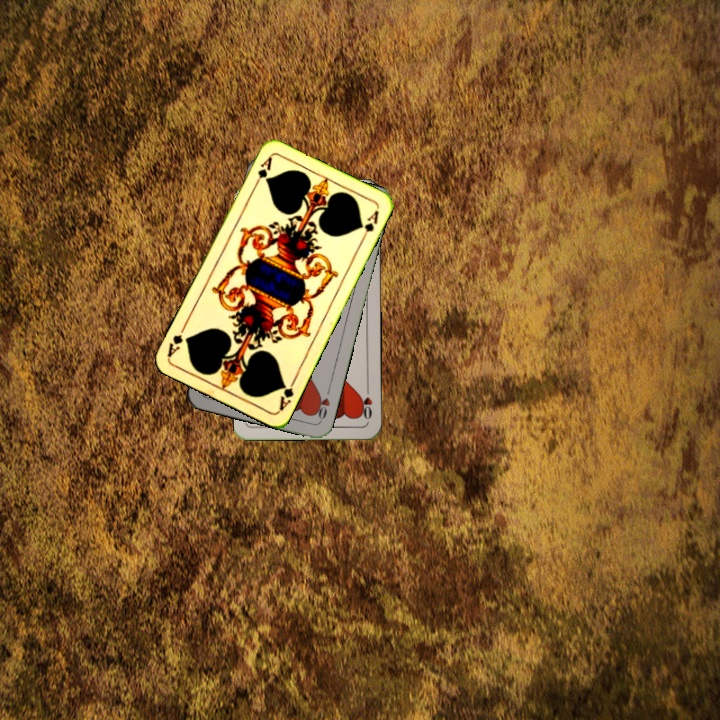GA: (250, 152, 275, 190), (275, 375, 298, 414)
HO: (310, 384, 333, 424), (357, 383, 375, 422)
